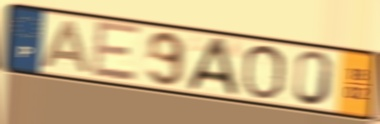0: (293, 49, 336, 108)
9: (146, 30, 188, 89)
A: (184, 37, 241, 97), (38, 18, 93, 75)
E: (90, 19, 143, 84)
O: (240, 44, 288, 101)
